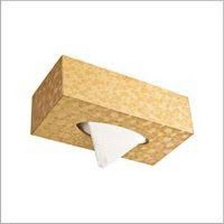book: (24, 50, 199, 171)
tissue: (79, 117, 152, 174)
